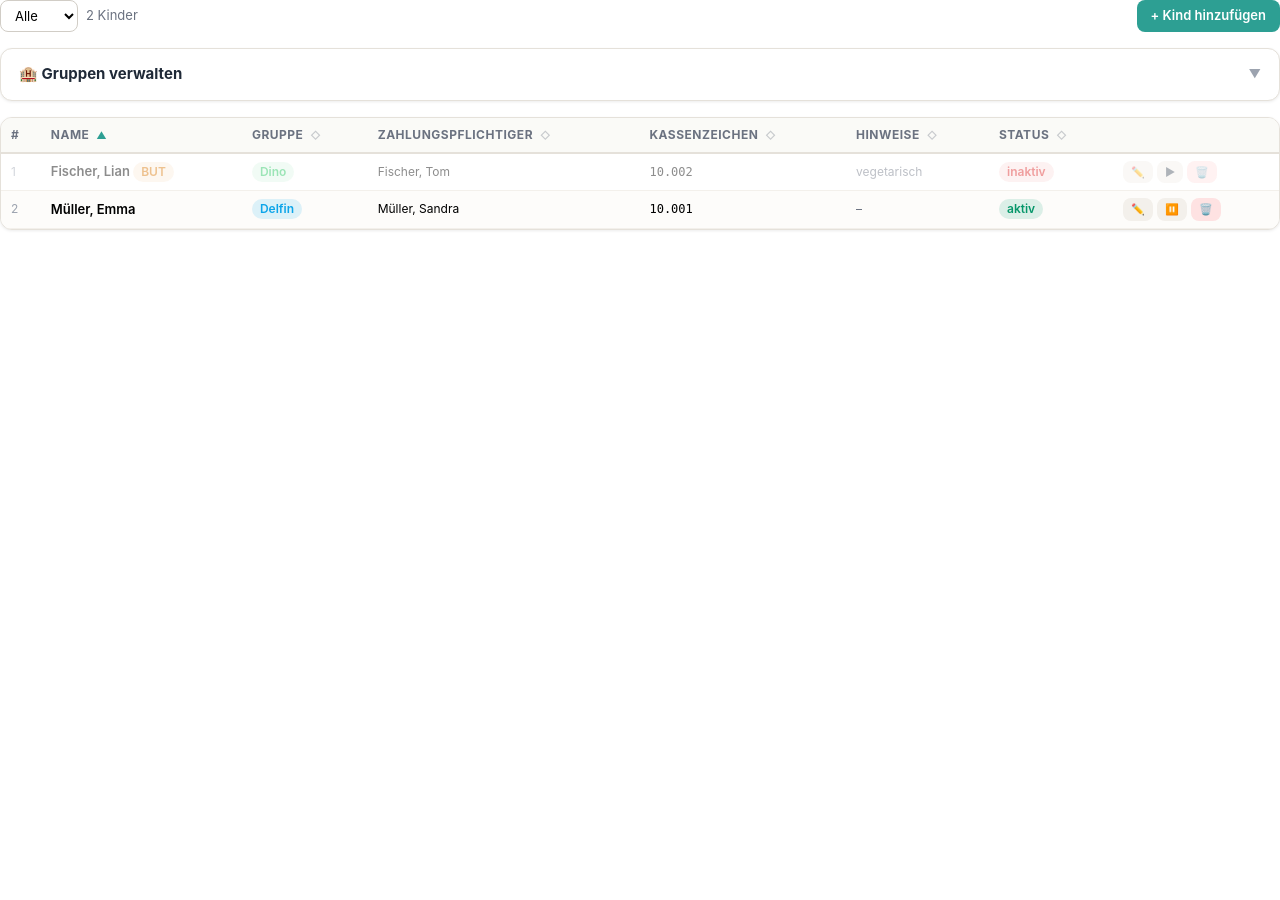
Test case: Stammdaten › Kind löschen › shows confirmation dialog when delete button is clicked
Click the button "🗑️" in the row of "Fischer, Lian" at {"x": 1202, "y": 172}, box x1=1187 y1=160 x2=1217 y2=183
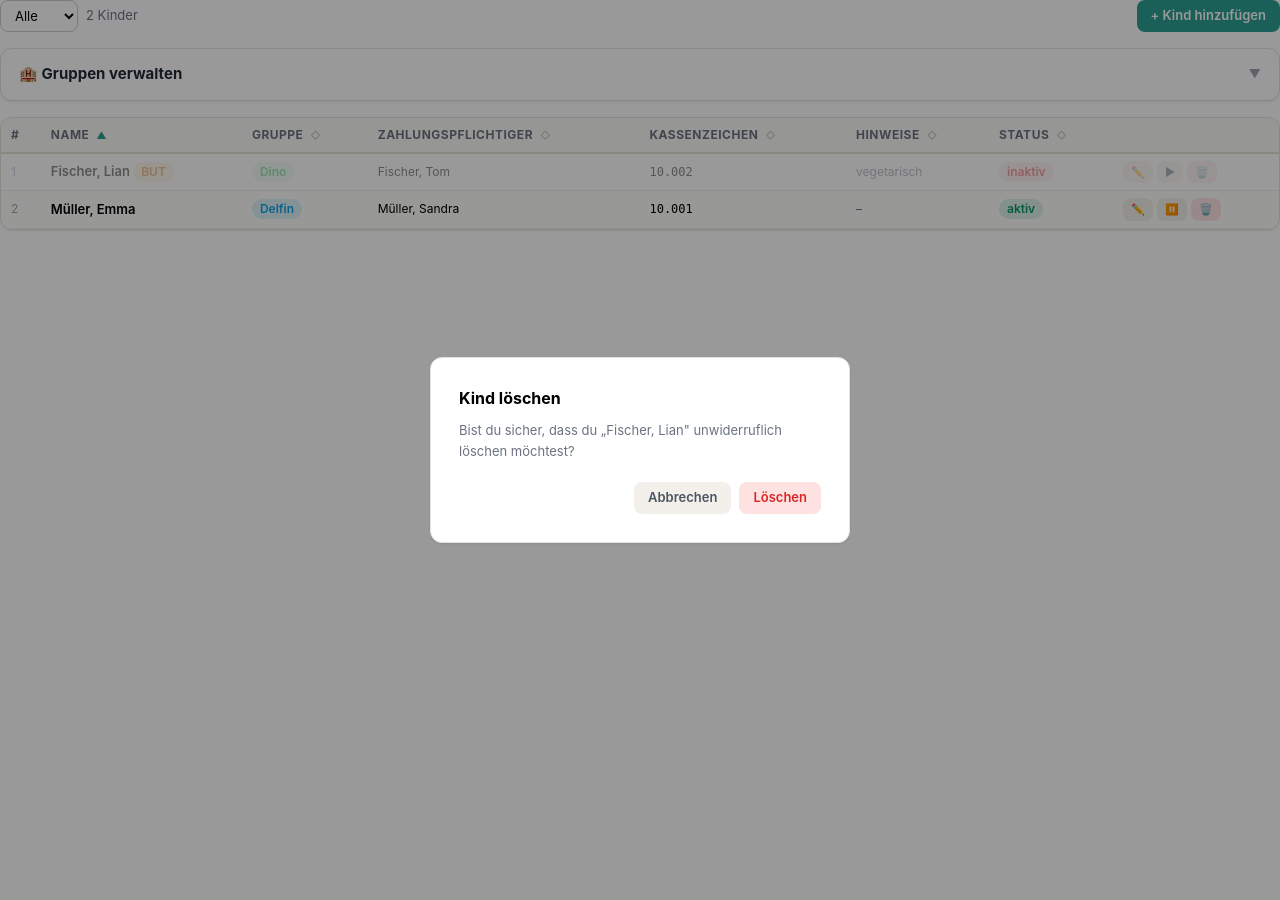
Now the text "Kind löschen" is shown, box x1=459 y1=388 x2=561 y2=408
Now the text "unwiderruflich löschen" is shown, box x1=459 y1=422 x2=782 y2=459
